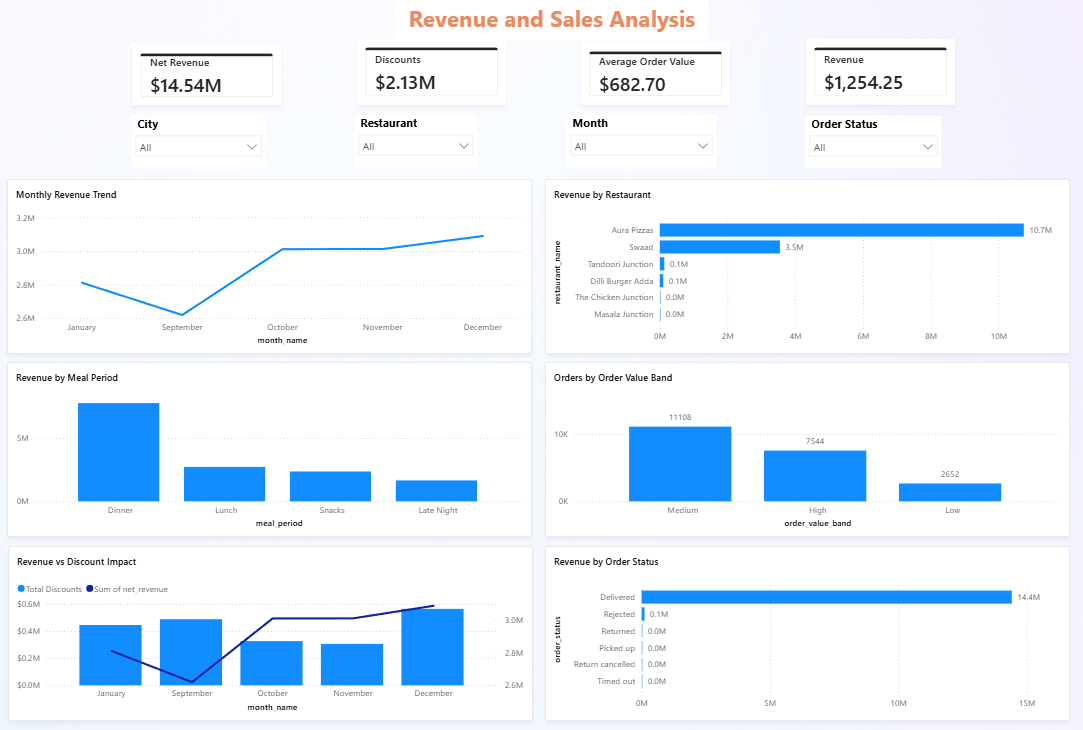

This screenshot's page, from the dashboard's own definition file:
{"tool":"powerbi","page":{"name":"Revenue & Sales Analysis","canvas":[1550,1050],"ordinal":1},"visuals":[{"type":"cardVisual","fields":{"Data":["order_history_clean_.Total Discounts"]},"box":[511,57.6,213,94],"z":0},{"type":"cardVisual","fields":{"Data":["order_history_clean_.Revenue per Customer"]},"box":[1152.3,57.6,213,94],"z":1000},{"type":"cardVisual","fields":{"Data":["order_history_clean_.Total Revenue"]},"box":[190.3,65.6,213,86],"z":2000},{"type":"cardVisual","fields":{"Data":["order_history_clean_.Average Order Value"]},"box":[831.6,63.6,213,88],"z":3000},{"type":"textbox","box":[567.1,0,445.7,58.6],"z":4000},{"type":"lineChart","title":"Monthly Revenue Trend","fields":{"Category":["order_history_clean_.month_name"],"Y":["Sum(order_history_clean_.net_revenue)"]},"box":[11.4,257.1,750,250],"z":5000},{"type":"clusteredBarChart","title":"Revenue by Restaurant","fields":{"Category":["order_history_clean_.restaurant_name"],"Y":["Sum(order_history_clean_.net_revenue)"]},"box":[780,257.1,750,250],"z":6000},{"type":"clusteredColumnChart","title":"Revenue by Meal Period","fields":{"Y":["Sum(order_history_clean_.net_revenue)"],"Category":["order_history_clean_.meal_period"]},"box":[11.4,518.6,750,250],"z":7000},{"type":"columnChart","title":"Orders by Order Value Band","fields":{"Category":["order_history_clean_.order_value_band"],"Y":["order_history_clean_.Total Orders"]},"box":[780,518.6,750,250],"z":8000},{"type":"lineClusteredColumnComboChart","title":"Revenue vs Discount Impact","fields":{"Category":["order_history_clean_.month_name"],"Y":["order_history_clean_.Total Discounts"],"Y2":["Sum(order_history_clean_.net_revenue)"]},"box":[12.9,781.4,750,250],"z":9000},{"type":"barChart","title":"Revenue by Order Status","fields":{"Category":["order_history_clean_.order_status"],"Y":["Sum(order_history_clean_.net_revenue)"]},"box":[779.6,781.9,750,250],"z":10000},{"type":"slicer","fields":{"Values":["order_history_clean_.city"]},"box":[190,167.1,190,74.3],"z":11000},{"type":"slicer","fields":{"Values":["order_history_clean_.restaurant_name"]},"box":[508.6,165.7,174.3,75.7],"z":12000},{"type":"slicer","fields":{"Values":["order_history_clean_.month_name"]},"box":[811.4,165.7,212.9,75.7],"z":13000},{"type":"slicer","fields":{"Values":["order_history_clean_.order_status"]},"box":[1152.9,167.1,192.9,74.3],"z":14000}]}

Visuals, with their boxes in screenshot pixels (x1, y1, x2, y2), scaled from the page's 1550x1050 canvas onto the 1083x730 screenshot:
cardVisual - order_history_clean_.Total Discounts: [357,40,506,105]
cardVisual - order_history_clean_.Revenue per Customer: [805,40,954,105]
cardVisual - order_history_clean_.Total Revenue: [133,46,282,105]
cardVisual - order_history_clean_.Average Order Value: [581,44,730,105]
textbox: [396,0,708,41]
"Monthly Revenue Trend" lineChart: [8,179,532,353]
"Revenue by Restaurant" clusteredBarChart: [545,179,1069,353]
"Revenue by Meal Period" clusteredColumnChart: [8,361,532,534]
"Orders by Order Value Band" columnChart: [545,361,1069,534]
"Revenue vs Discount Impact" lineClusteredColumnComboChart: [9,543,533,717]
"Revenue by Order Status" barChart: [545,544,1069,717]
slicer - order_history_clean_.city: [133,116,266,168]
slicer - order_history_clean_.restaurant_name: [355,115,477,168]
slicer - order_history_clean_.month_name: [567,115,716,168]
slicer - order_history_clean_.order_status: [806,116,940,168]
